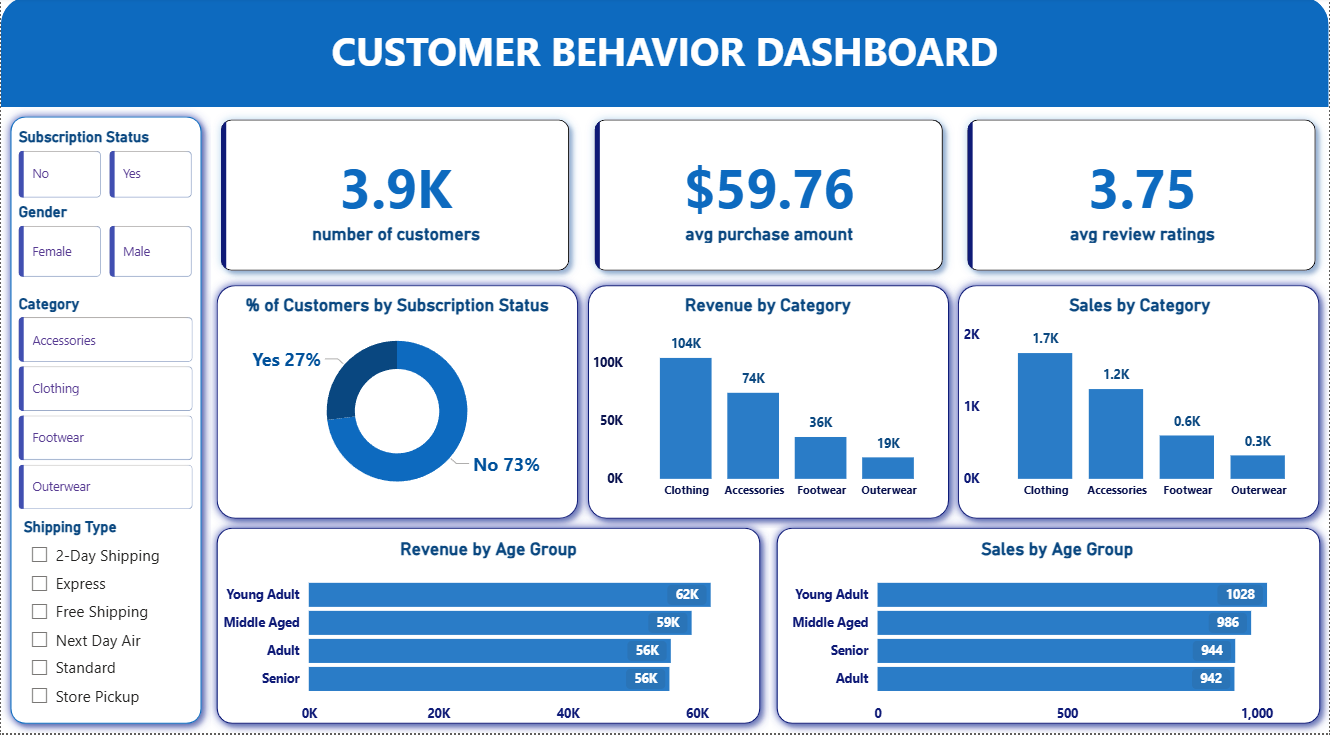

Layout of this report page (visuals, bound fields, positions):
{"tool":"powerbi","page":{"name":"Page 1","canvas":[1274,706],"ordinal":0},"visuals":[{"type":"cardVisual","fields":{"Data":["public customer.number of customers","public customer.avg purchase amount","public customer.avg review ratings"]},"box":[199,105.5,1075.6,169.1],"z":0},{"type":"shape","box":[0,0,1273.4,105.5],"z":1000},{"type":"textbox","box":[0,21.6,1273.4,63.5],"z":2000},{"type":"shape","box":[197.8,267.1,364.8,242.1],"z":3000},{"type":"donutChart","title":"% of Customers by Subscription Status","fields":{"Category":["public customer.subscription_status"],"Y":["Count(public customer.customer_id)"]},"box":[207.4,285.4,345.3,205],"z":4000},{"type":"shape","box":[553.6,267.1,364.5,242.1],"z":5000},{"type":"shape","box":[197.8,500,539.6,206.2],"z":6000},{"type":"shape","box":[909.2,267.1,364.8,242.1],"z":7000},{"type":"clusteredColumnChart","title":"Revenue by Category","fields":{"Y":["Sum(public customer.purchase_amount)"],"Category":["public customer.category"]},"box":[562.4,285.4,346.5,205],"z":8000},{"type":"clusteredColumnChart","title":"Sales by Category","fields":{"Category":["public customer.category"],"Y":["CountNonNull(public customer.customer_id)"]},"box":[918.5,285.4,347.7,205],"z":9000},{"type":"shape","box":[0,105.5,201.4,600.7],"z":10000},{"type":"advancedSlicerVisual","title":"Subscription Status","fields":{"Values":["public customer.subscription_status"]},"box":[12,125.9,177.5,71.9],"z":11000},{"type":"advancedSlicerVisual","title":"Gender","fields":{"Values":["public customer.gender"]},"box":[12,197.8,177.5,76.7],"z":12000},{"type":"advancedSlicerVisual","title":"Category","fields":{"Values":["public customer.category"]},"box":[12,285.4,177.5,214.6],"z":13000},{"type":"slicer","title":"Shipping Type","fields":{"Values":["public customer.shipping_type"]},"box":[16.8,500,166.7,190.6],"z":13001},{"type":"clusteredBarChart","title":"Revenue by Age Group","fields":{"Category":["public customer.age_group"],"Y":["Sum(public customer.purchase_amount)"]},"box":[207.4,519.2,520.4,187.1],"z":13002},{"type":"shape","box":[735,500,539.6,206.2],"z":13004},{"type":"clusteredBarChart","title":"Sales by Age Group","fields":{"Category":["public customer.age_group"],"Y":["CountNonNull(public customer.customer_id)"]},"box":[753,519.2,520.4,187.1],"z":13005}]}

Visuals, with their boxes in screenshot pixels (x1, y1, x2, y2), scaled from the page's 1274x706 canvas onto the 1330x735 screenshot:
cardVisual - public customer.number of customers x public customer.avg purchase amount: bbox=[208, 110, 1329, 286]
shape: bbox=[0, 0, 1329, 110]
textbox: bbox=[0, 22, 1329, 89]
shape: bbox=[206, 278, 587, 530]
"% of Customers by Subscription Status" donutChart: bbox=[217, 297, 577, 511]
shape: bbox=[578, 278, 958, 530]
shape: bbox=[206, 521, 770, 734]
shape: bbox=[949, 278, 1329, 530]
"Revenue by Category" clusteredColumnChart: bbox=[587, 297, 949, 511]
"Sales by Category" clusteredColumnChart: bbox=[959, 297, 1322, 511]
shape: bbox=[0, 110, 210, 734]
"Subscription Status" advancedSlicerVisual: bbox=[13, 131, 198, 206]
"Gender" advancedSlicerVisual: bbox=[13, 206, 198, 286]
"Category" advancedSlicerVisual: bbox=[13, 297, 198, 521]
"Shipping Type" slicer: bbox=[18, 521, 192, 719]
"Revenue by Age Group" clusteredBarChart: bbox=[217, 541, 760, 734]
shape: bbox=[767, 521, 1329, 734]
"Sales by Age Group" clusteredBarChart: bbox=[786, 541, 1329, 734]
